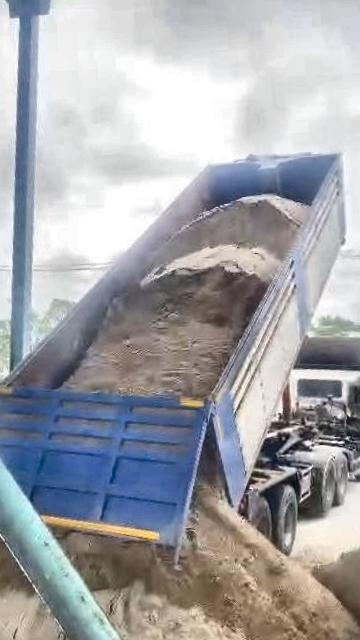sand: (66, 197, 307, 396), (62, 487, 360, 640), (0, 541, 127, 640), (314, 522, 360, 640), (295, 548, 329, 571)
